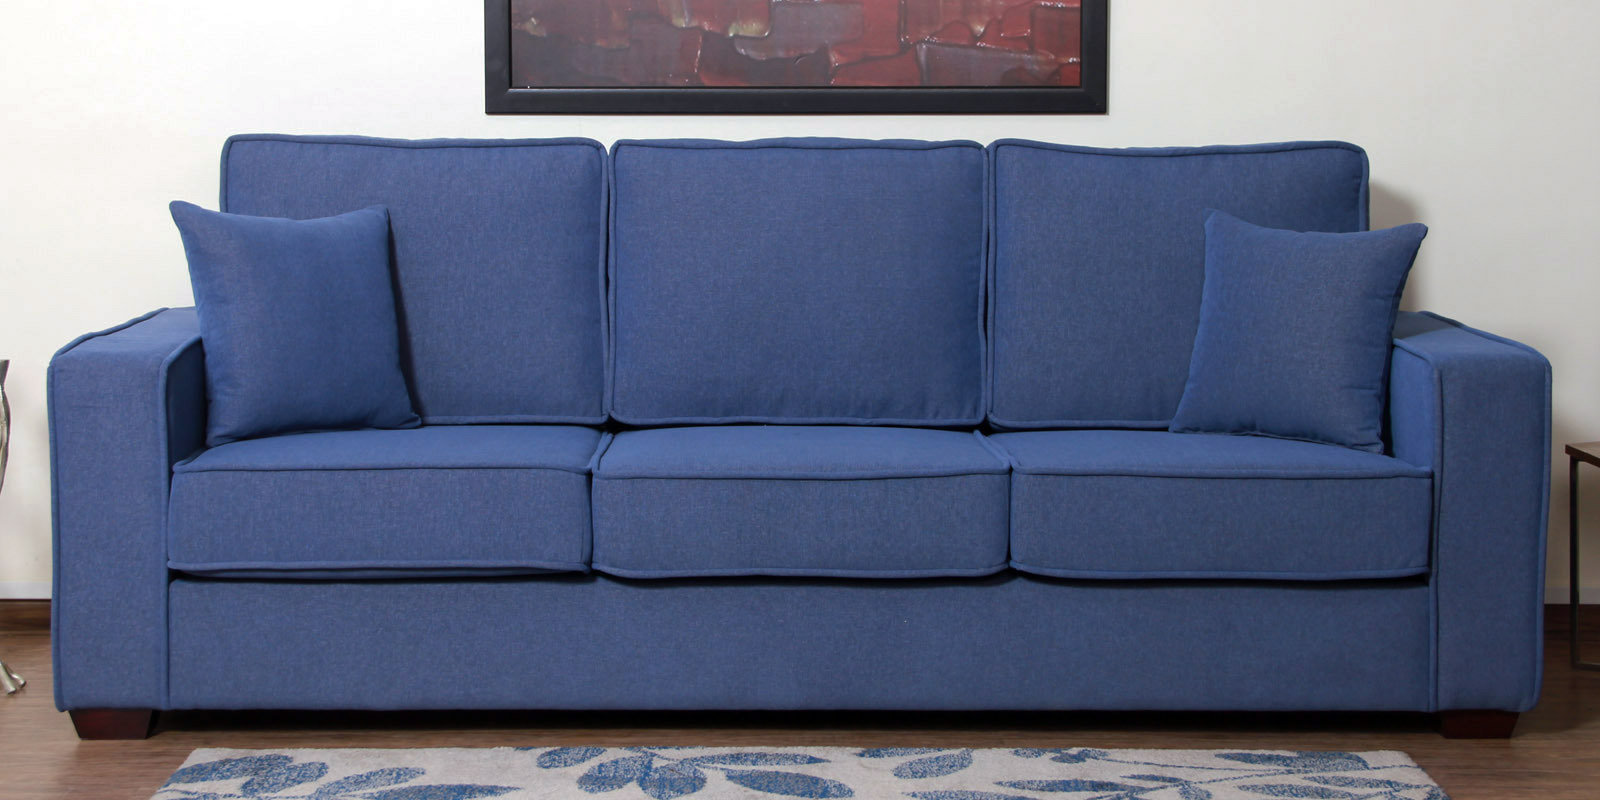Hugo Three Seater Sofa in Denim Blue Colour by CasaCraft: (32, 119, 1552, 761)
